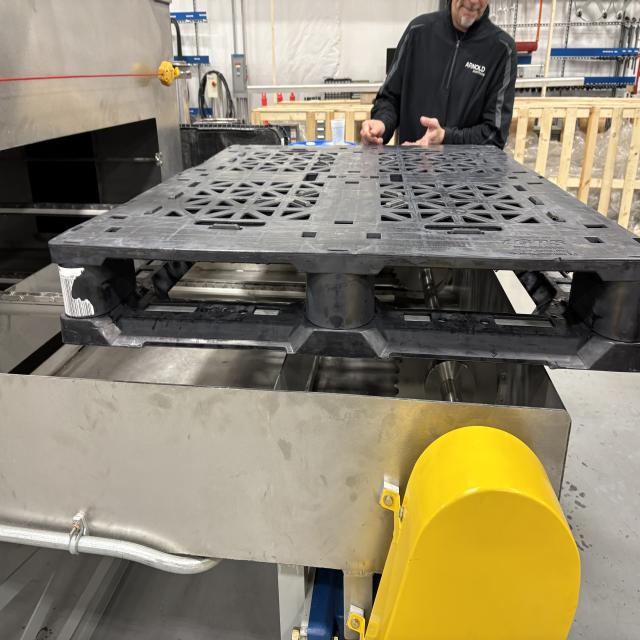igps: (44, 120, 640, 384)
